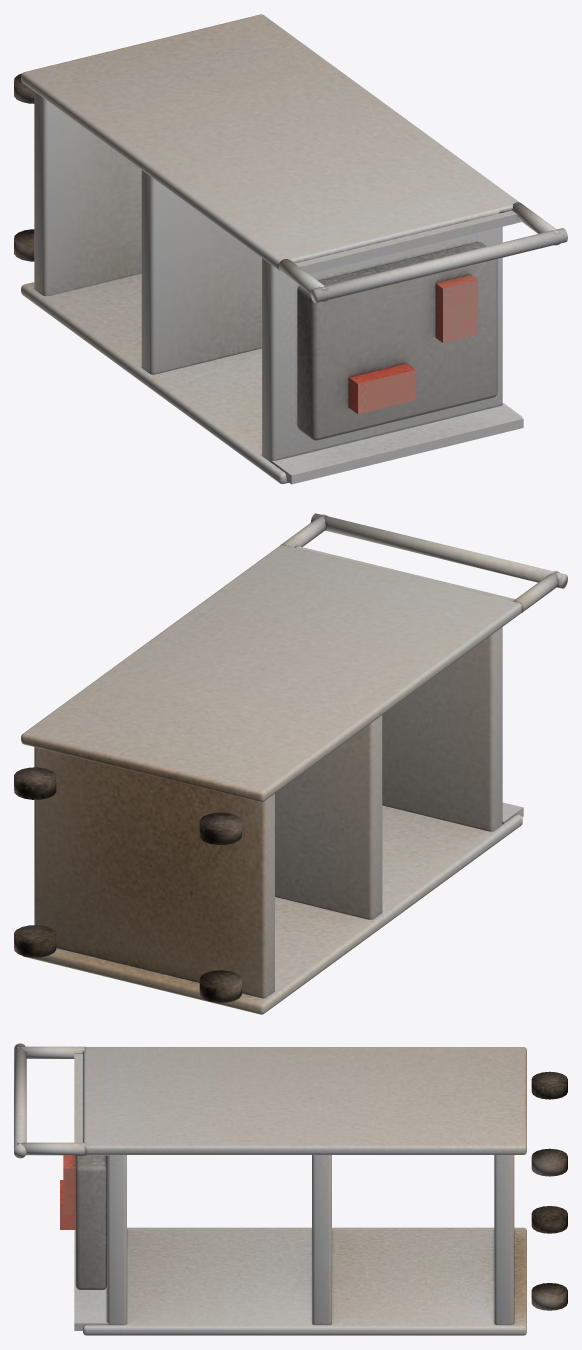
The picture shows the model from 3 angles, top to bottom: view 1: azimuth 30°, elevation 25°; view 2: azimuth 150°, elevation 25°; view 3: azimuth 270°, elevation 25°; orthographic projection. The views are drawn at different scales.
Parts seen in each view (by area): view 1: A9_final.001; view 2: A9_final.001; view 3: A9_final.001.
Part boxes in pixels (x1,y1,x2,y2): A9_final.001: [14, 14, 567, 484]; A9_final.001: [14, 513, 567, 1014]; A9_final.001: [14, 1043, 567, 1335].
Size of the model in its own units: 0.431 by 0.386 by 0.973.
1 material, 1 textured.
